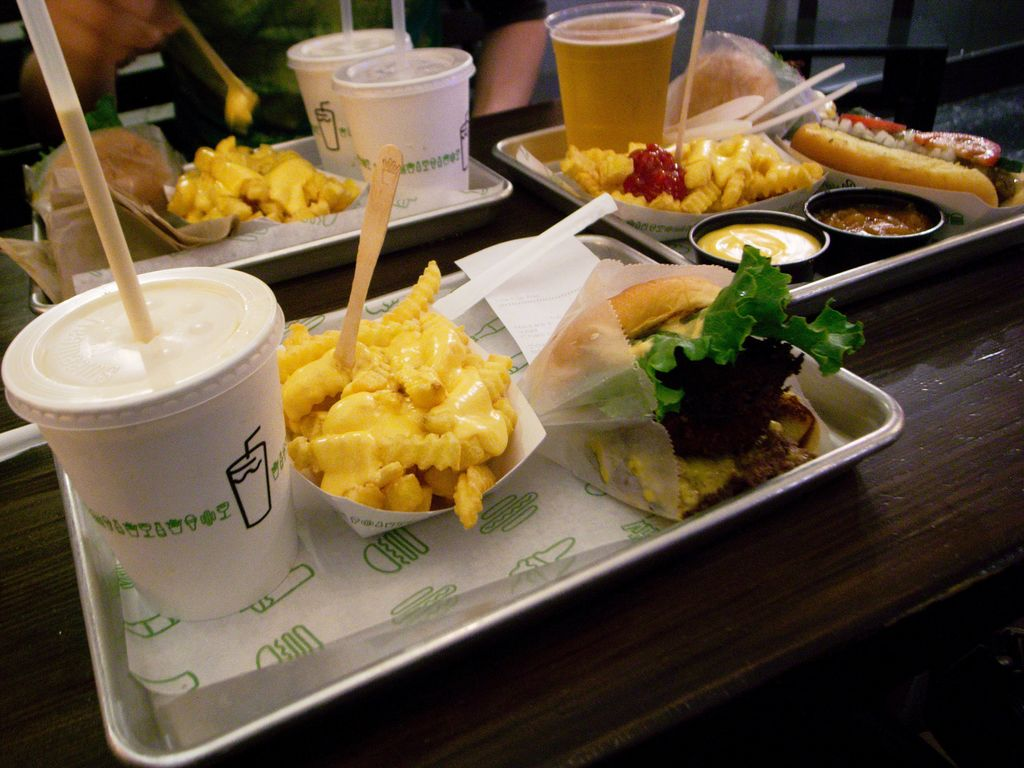French fries: (273, 260, 514, 526), (563, 137, 826, 214), (167, 141, 364, 224)
